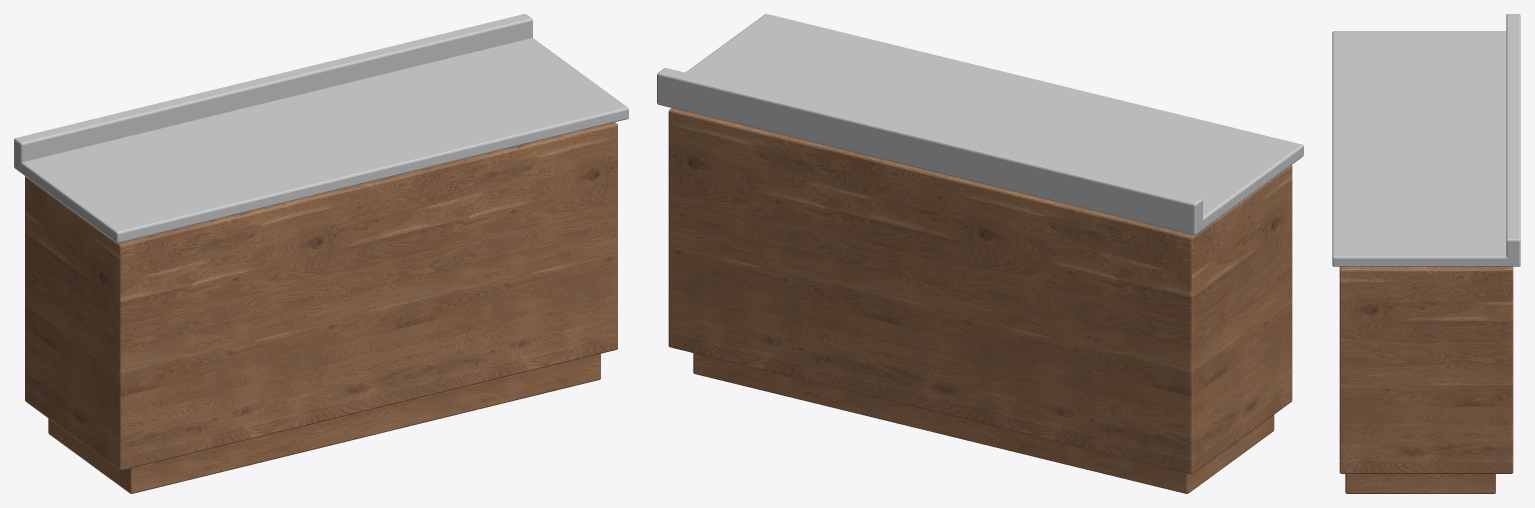
File: counter.glb
3 views of the same model, side by side, from view 1: azimuth 30°, elevation 25°; view 2: azimuth 150°, elevation 25°; view 3: azimuth 270°, elevation 25° (orthographic). The views are drawn at different scales.
Parts seen in each view (by area): view 1: Counter; view 2: Counter; view 3: Counter.
Boxes of the visible parts, left/top/right/bottom form: Counter: left=14, top=14, right=628, bottom=493; Counter: left=657, top=14, right=1303, bottom=493; Counter: left=1332, top=14, right=1520, bottom=493.
Size of the model in its own units: 1.85 by 1 by 0.65.
Materials: 3 (2 with a texture image).
